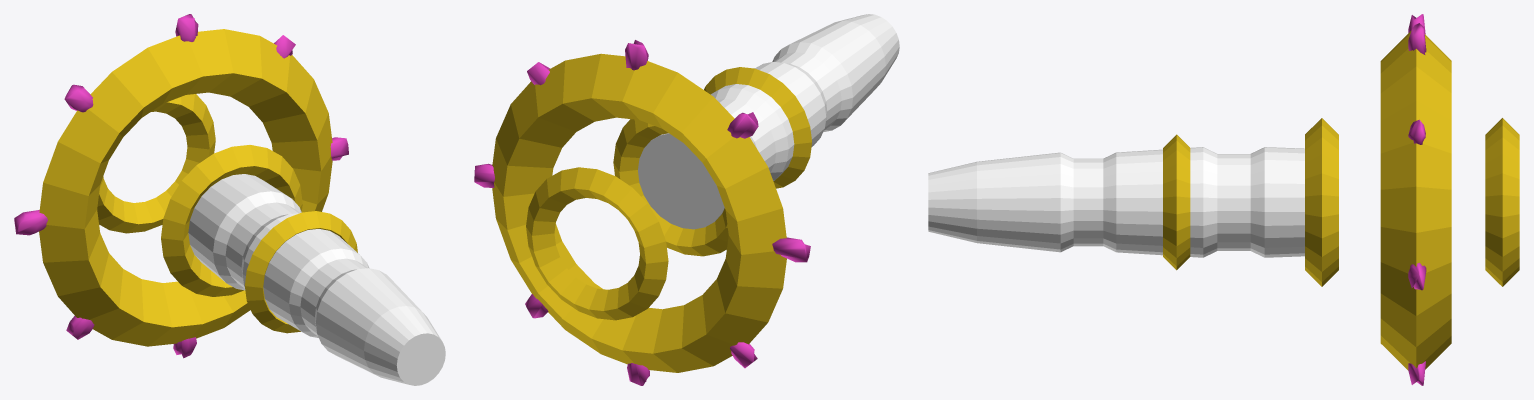
Rendered from miniGun.fbx.
3 renders of one model, left to right at view 1: azimuth 30°, elevation 25°; view 2: azimuth 150°, elevation 25°; view 3: azimuth 270°, elevation 25°, orthographic. The views are drawn at different scales.
Visible parts, largest first — view 1: Torus; view 2: Torus; view 3: Torus.
Part boxes in pixels (bbox=[...]): Torus: bbox=[14, 14, 445, 385]; Torus: bbox=[474, 14, 899, 385]; Torus: bbox=[928, 14, 1519, 385].
Size of the model in its own units: 44.57 by 43.52 by 66.48.
